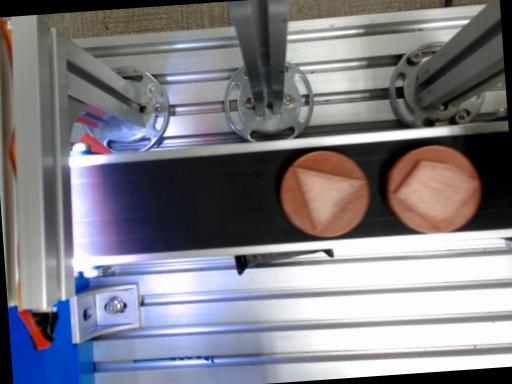Brown_Waper: (386, 146, 481, 233), (280, 151, 369, 237)
